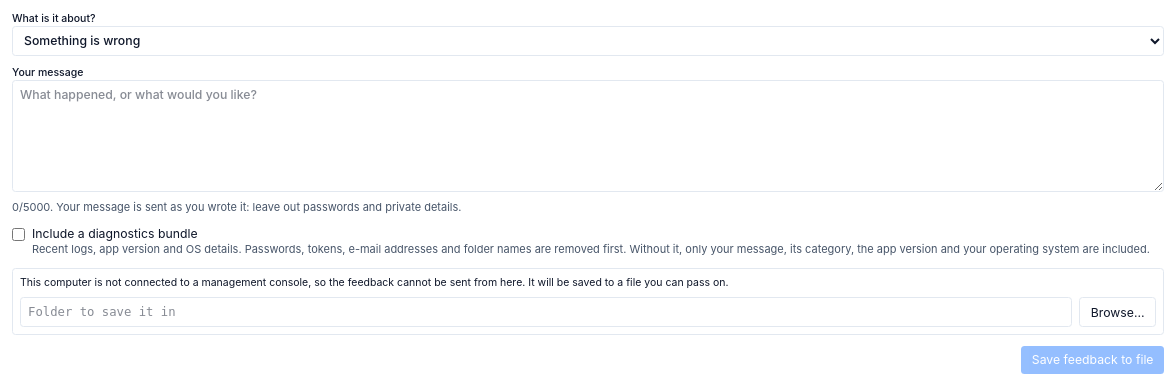
Test: FeedbackForm without a console › says it cannot send, asks where to save, and never claims a send
Expected: the element with test id "feedback-destination" shows "not connected to a management console", top-left (20, 276), bottom-right (728, 289)
Type "Hello" into the text box labelled "message" at (588, 136), box top-left (12, 80), bottom-right (1164, 192)
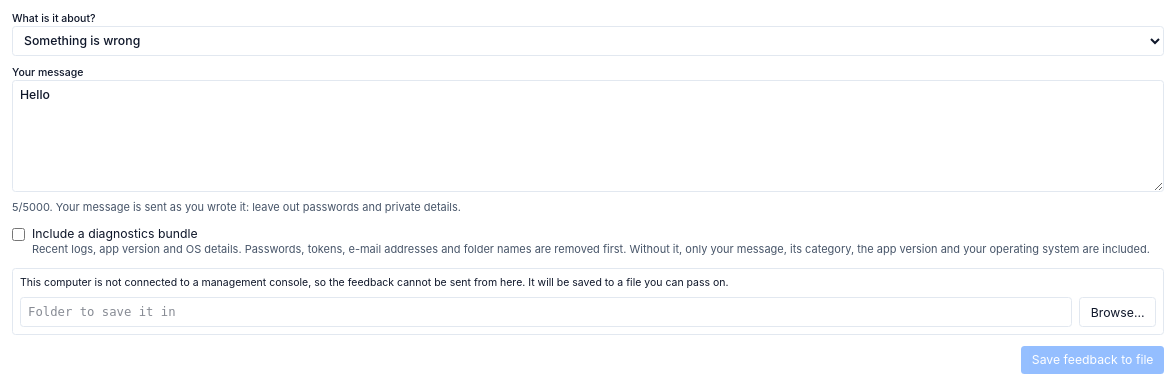
Expected: the button "Save feedback to file" is disabled, top-left (1021, 346), bottom-right (1164, 374)
Click the button "Browse…" at (1118, 312), box top-left (1079, 297), bottom-right (1156, 327)
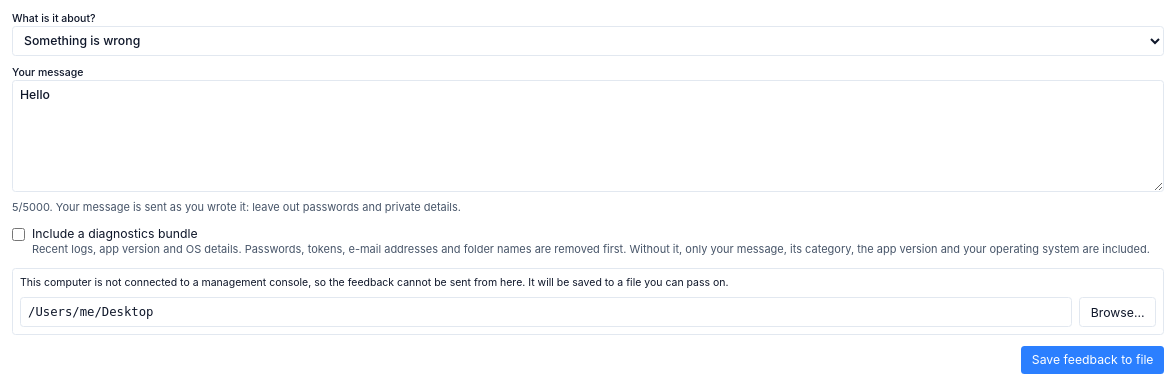
Expected: the field named "Folder to save the feedback" holds "/Users/me/Desktop", top-left (20, 297), bottom-right (1072, 327)
Click the checkbox named "Include diagnostics" at (18, 235), box top-left (12, 228), bottom-right (25, 241)
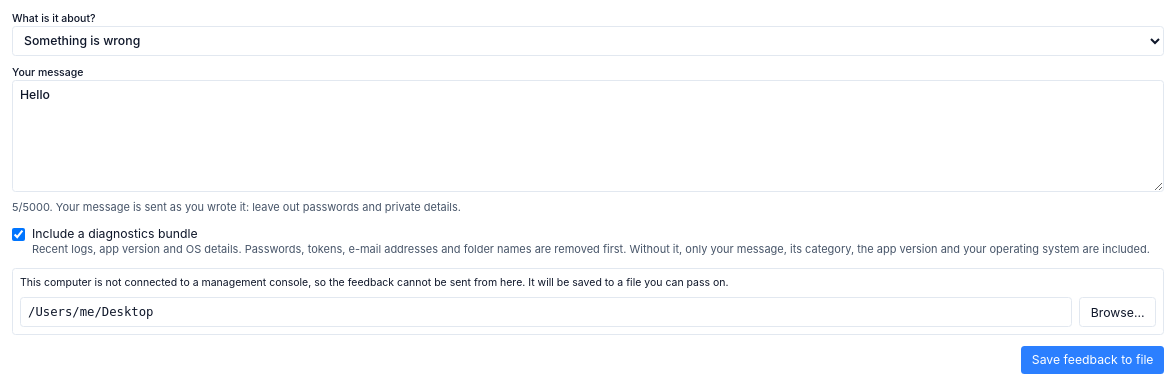
Click the button "Save feedback to file" at (1093, 360), box top-left (1021, 346), bottom-right (1164, 374)
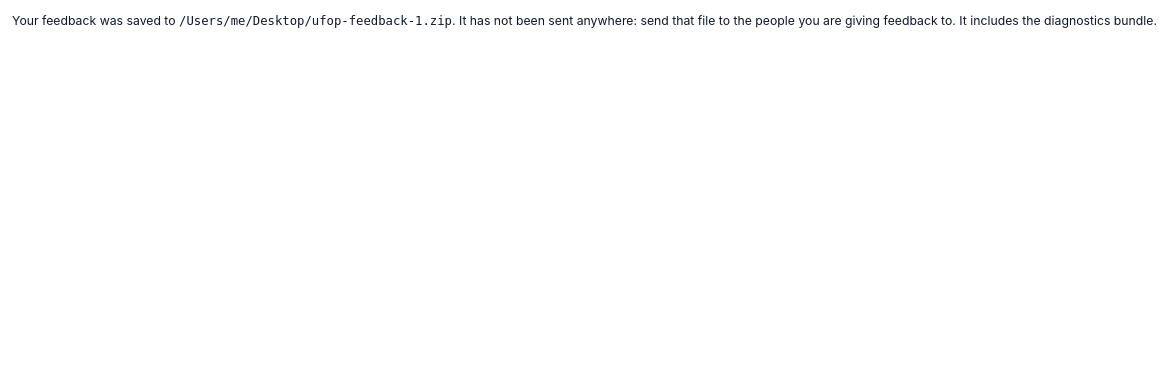
Expected: the message shows "saved to /Users/me/Desktop/ufop-feedback-1.zip", top-left (12, 12), bottom-right (1164, 30)
Expected: the message shows "has not been sent anywhere", top-left (452, 13), bottom-right (956, 28)
Expected: the message shows "includes the diagnostics bundle", top-left (956, 13), bottom-right (1157, 28)
